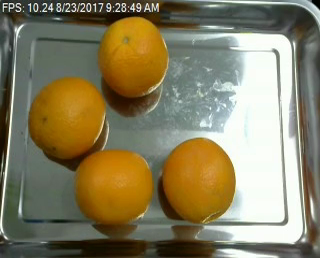Orange: (162, 137, 236, 222), (29, 76, 106, 157), (73, 149, 152, 223), (97, 15, 168, 97)
